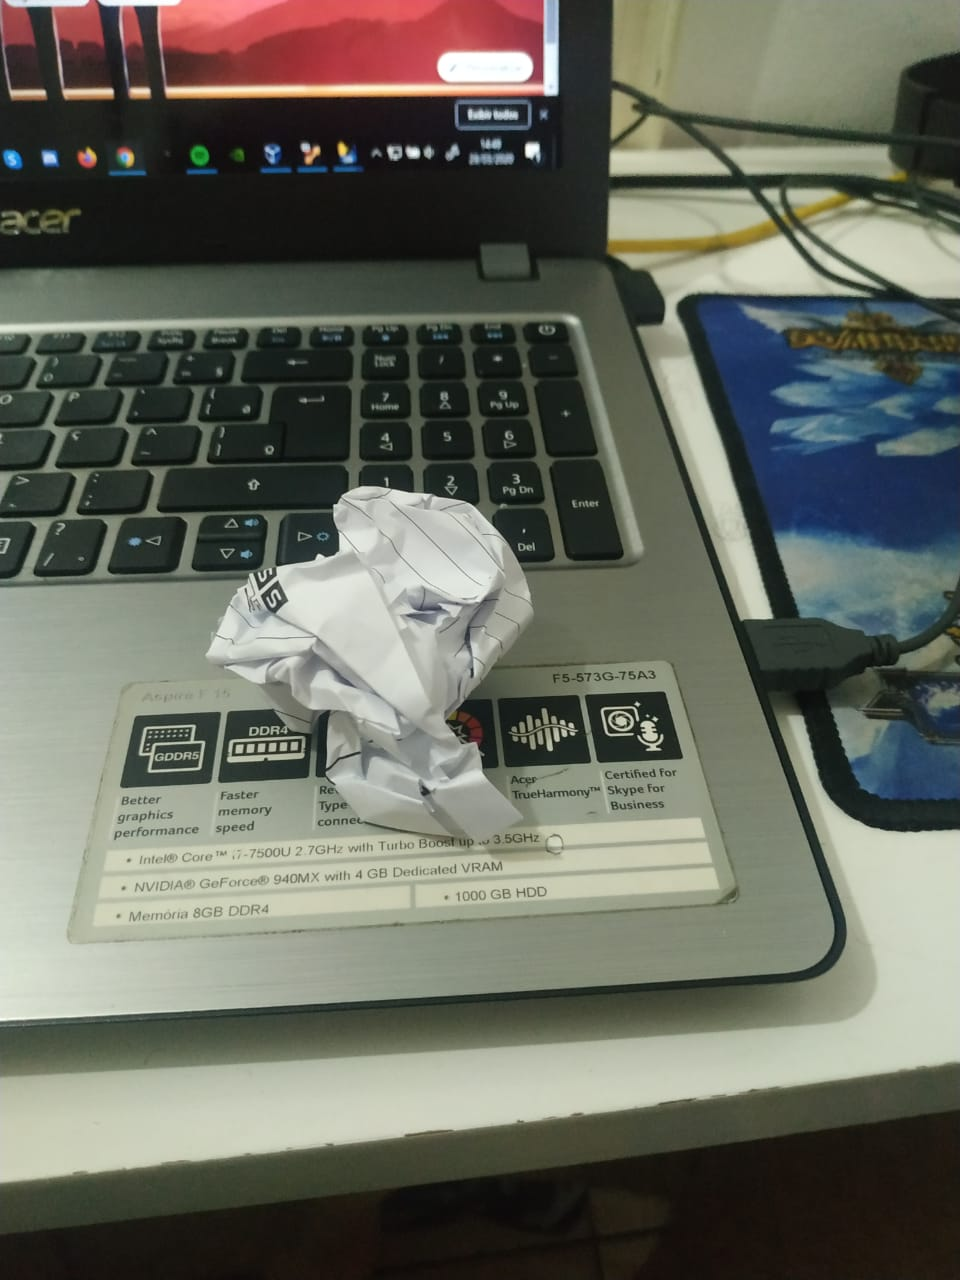paper-crumpled: (194, 476, 545, 866)
